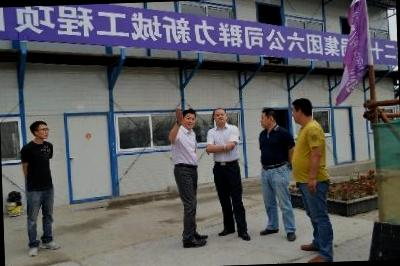no_helmet: (289, 94, 315, 127), (26, 117, 54, 141), (258, 101, 280, 131), (176, 107, 199, 131), (210, 103, 228, 126)
